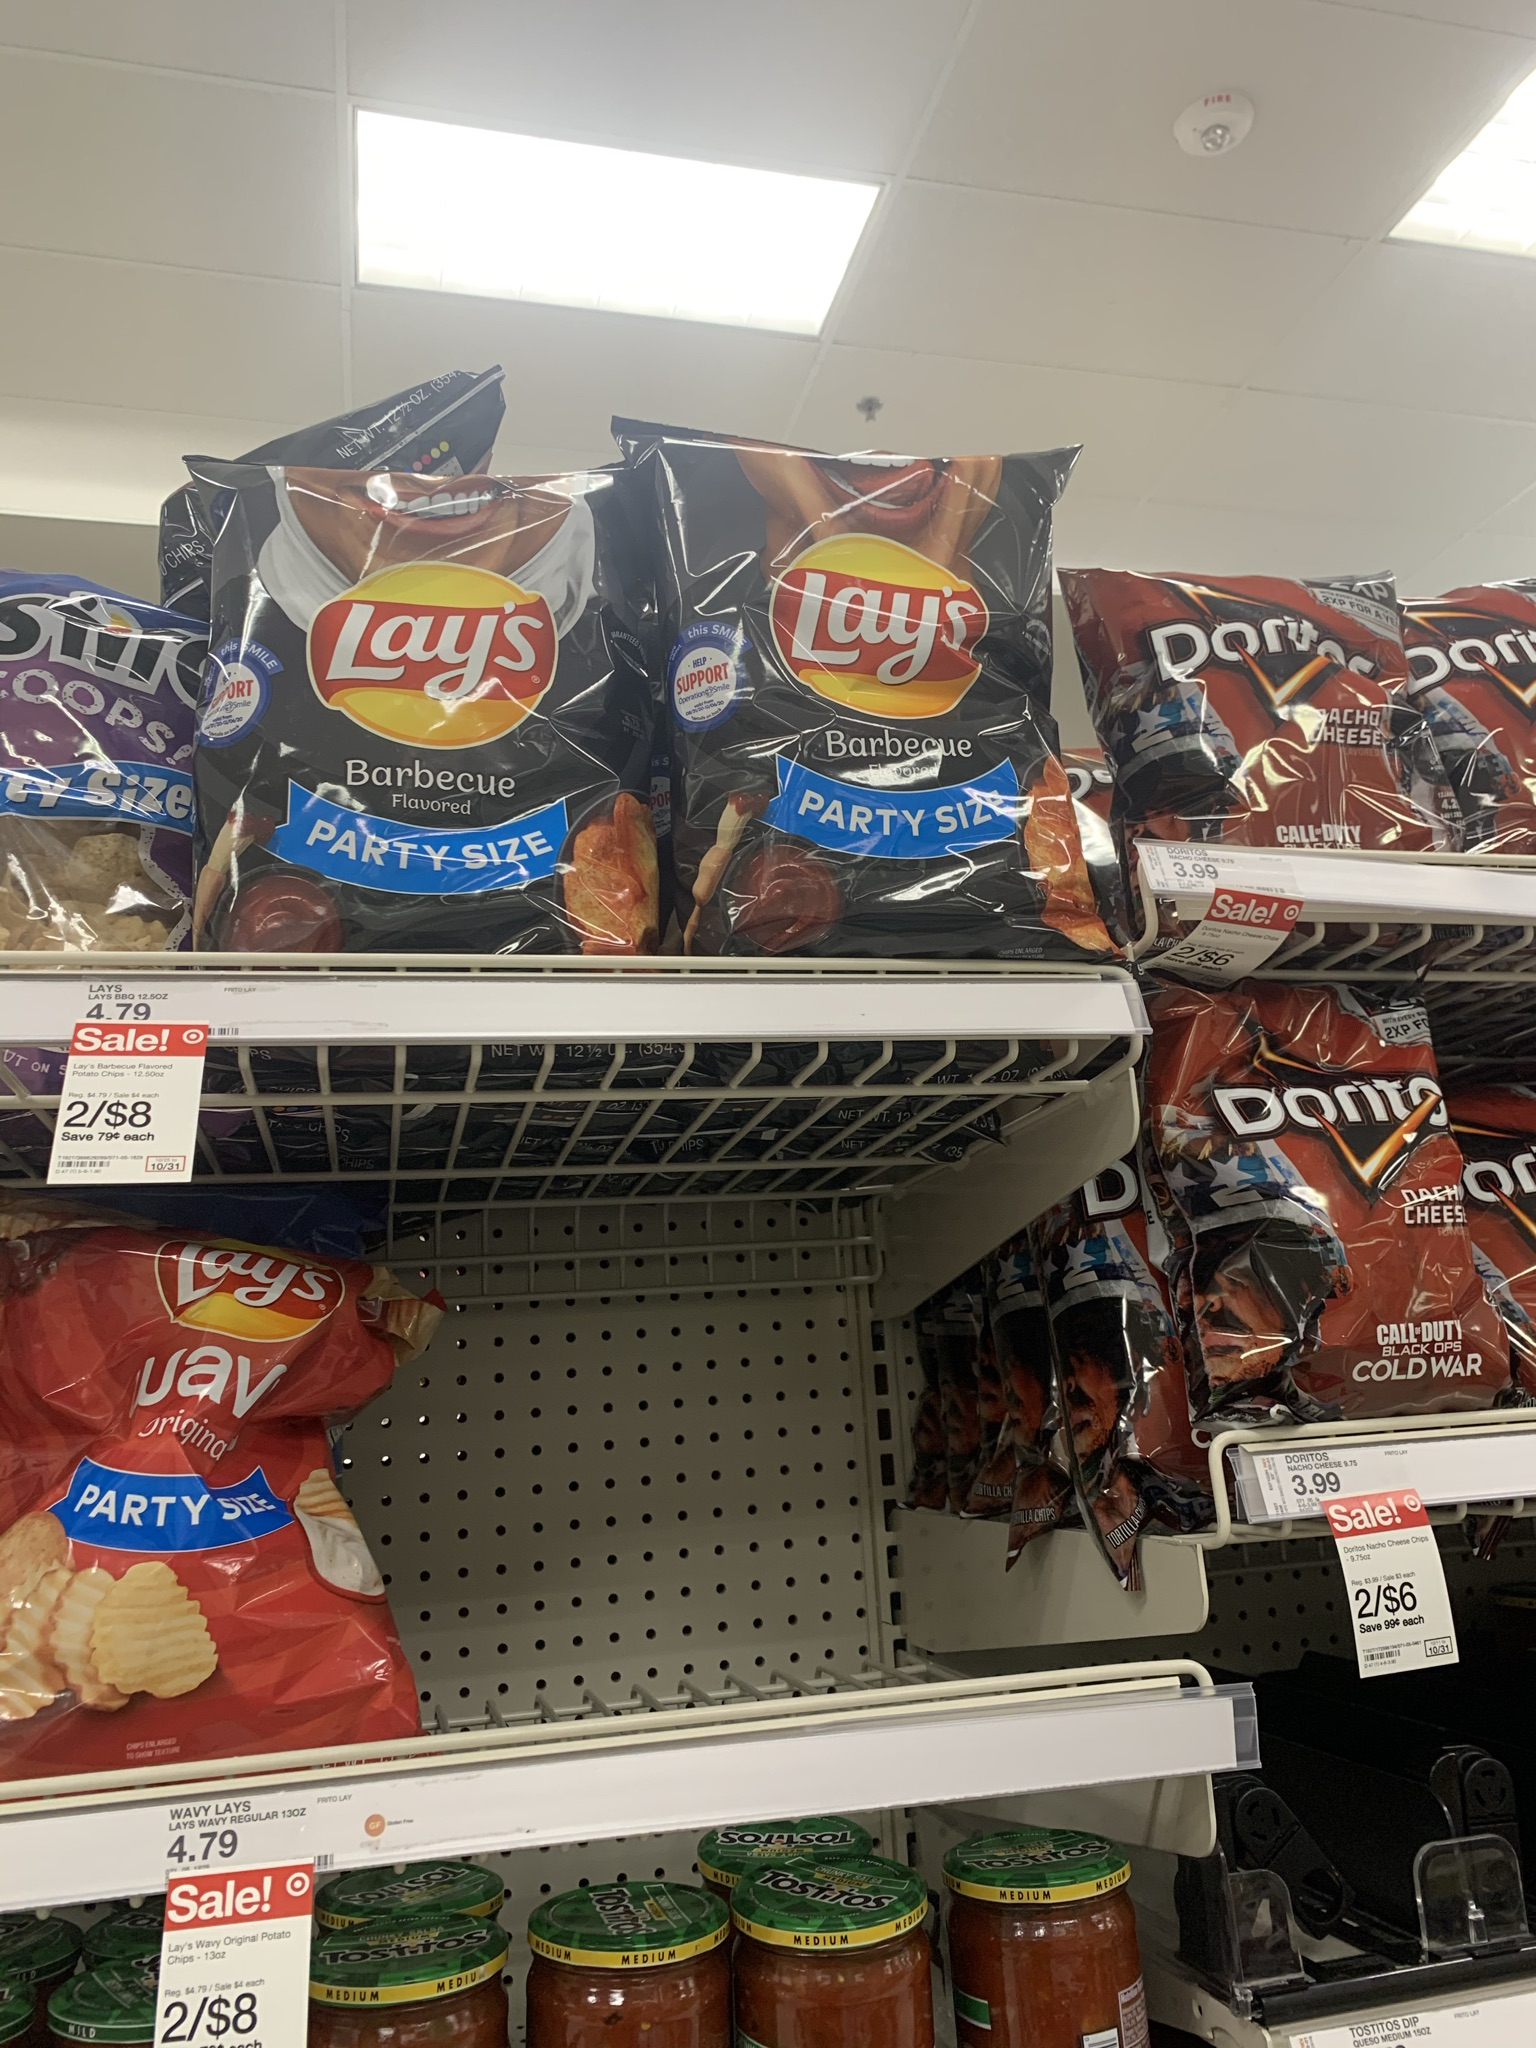doritos chips: (1149, 1009, 1494, 1361), (929, 1269, 1225, 1535), (1083, 584, 1404, 826), (1421, 593, 1536, 806)
lays: (662, 443, 1099, 943), (216, 469, 665, 943), (32, 1238, 379, 1719)
tostitos chips: (18, 598, 184, 948)
